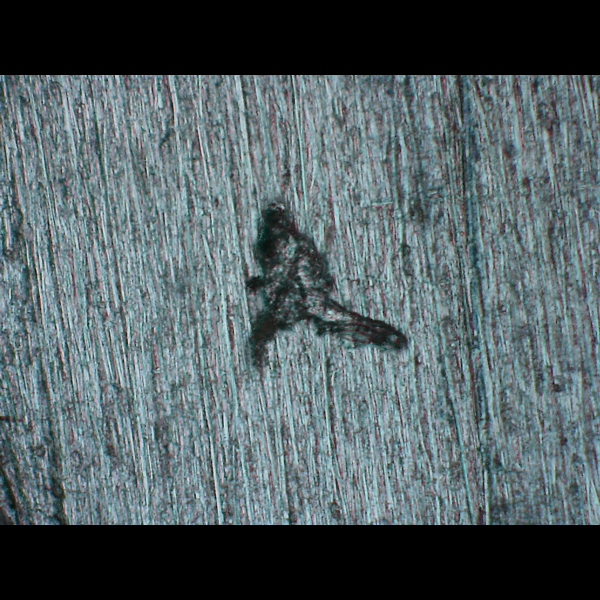d: (237, 198, 416, 377)
